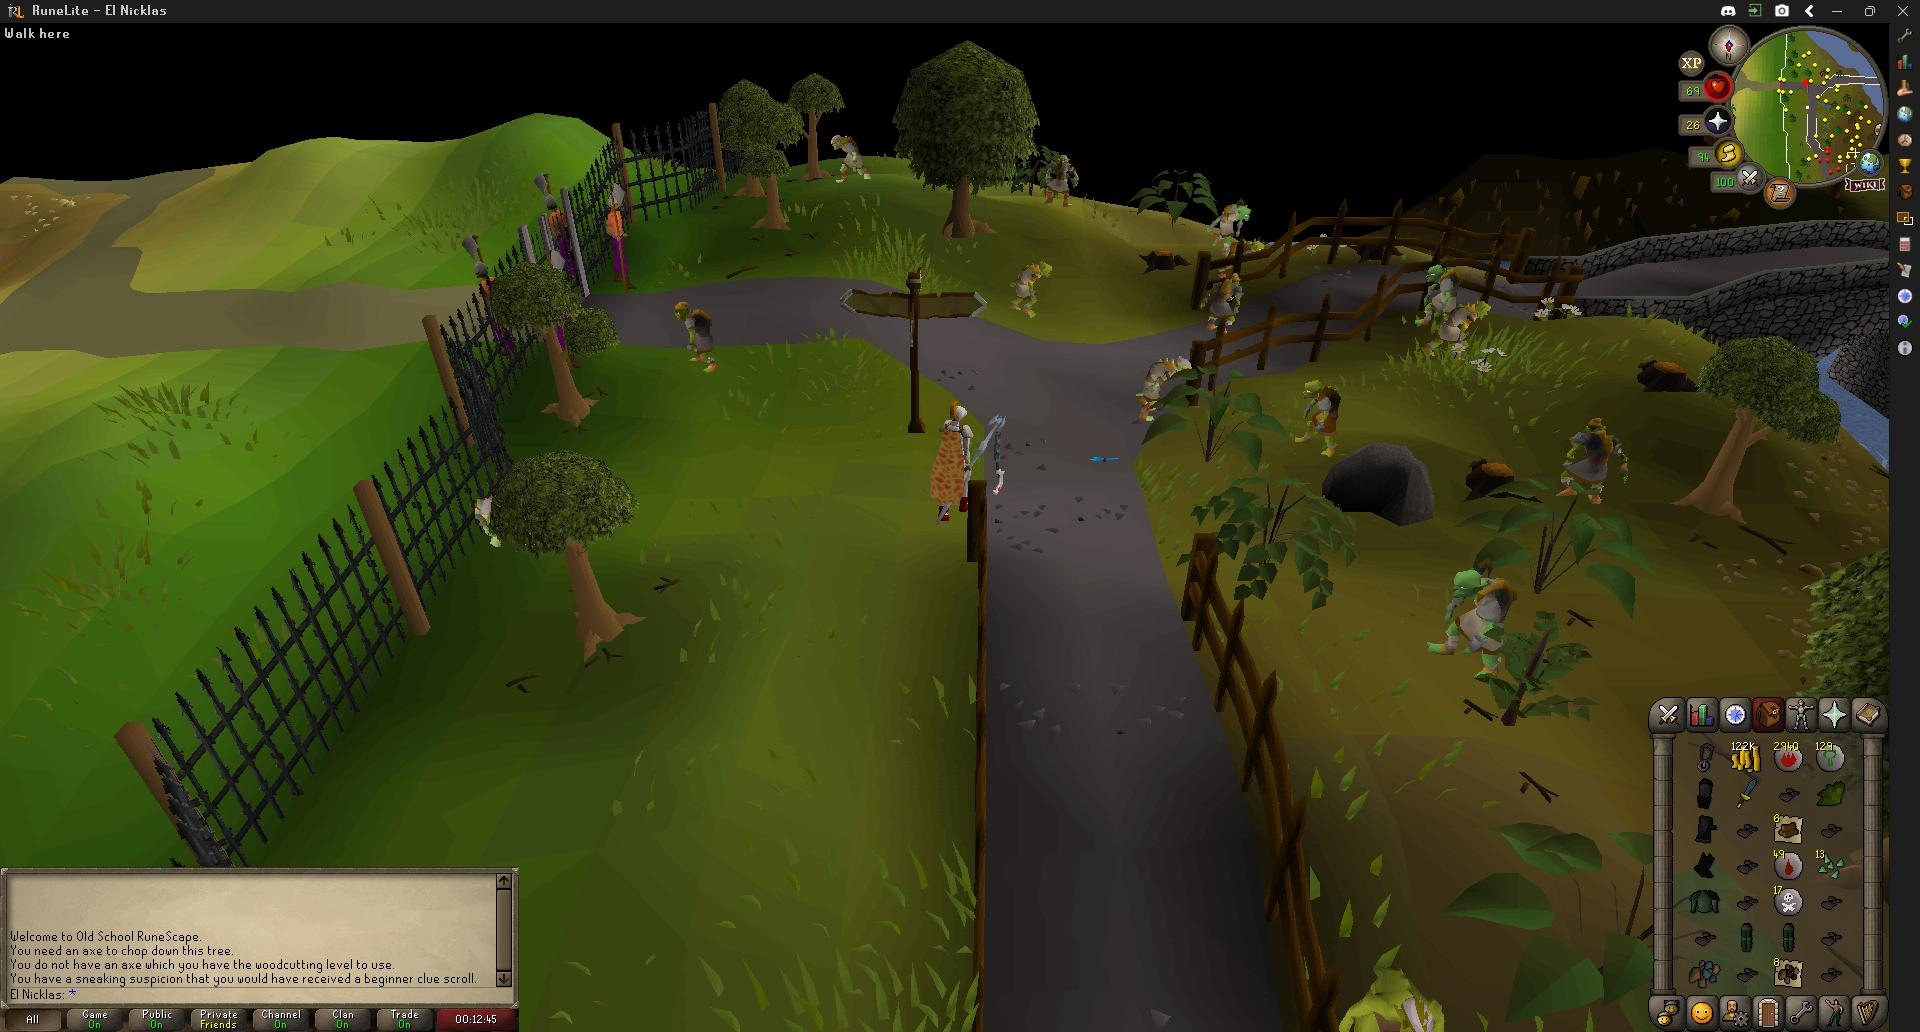Player: (926, 398, 970, 521)
goblin: (1426, 567, 1507, 657), (1414, 265, 1485, 365), (1558, 416, 1628, 503), (1132, 355, 1191, 427), (1302, 379, 1340, 455), (679, 299, 719, 369), (1205, 267, 1244, 337), (1009, 260, 1051, 322), (1207, 199, 1249, 254), (830, 133, 872, 184), (1042, 154, 1078, 207)
